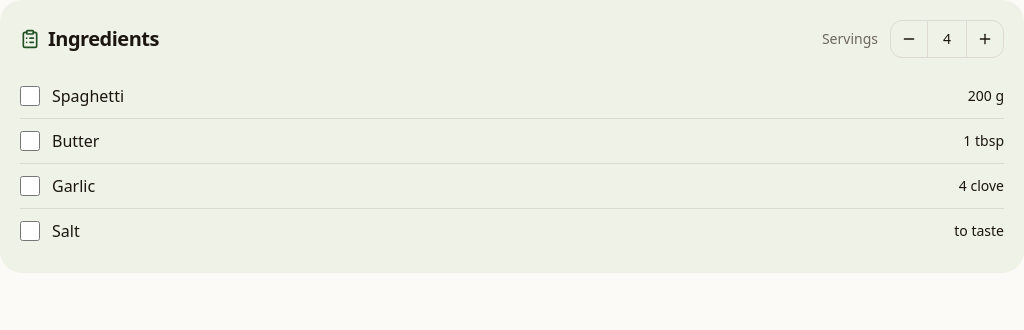
Test: restores the exact stored amounts with Reset and keeps focus inside the control
Click the button named "Decrease servings" at (909, 39), box [891,21,927,57]
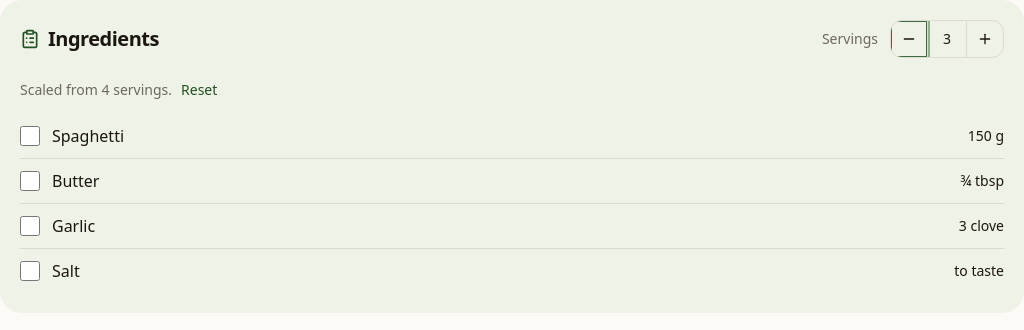
Click the button named "Decrease servings" at (909, 39), box [891,21,927,57]
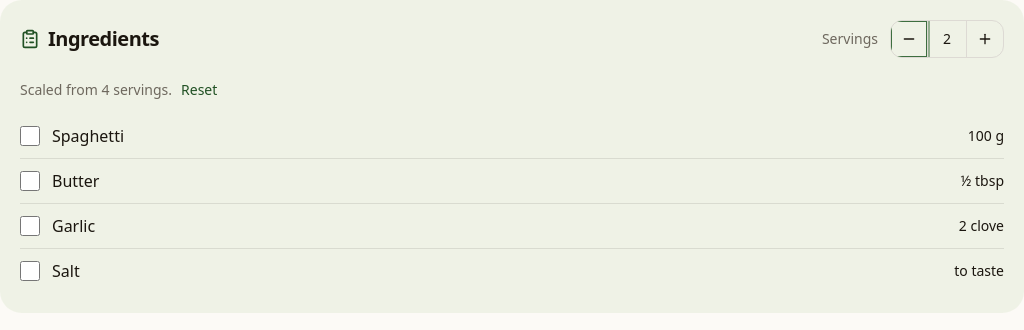
Click the button "Reset" at (199, 90), box [176,74,222,106]
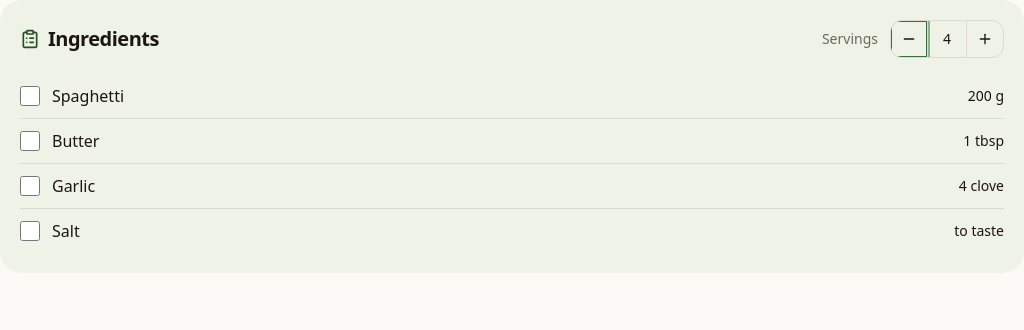
Check: the text "Scaled from" is gone
